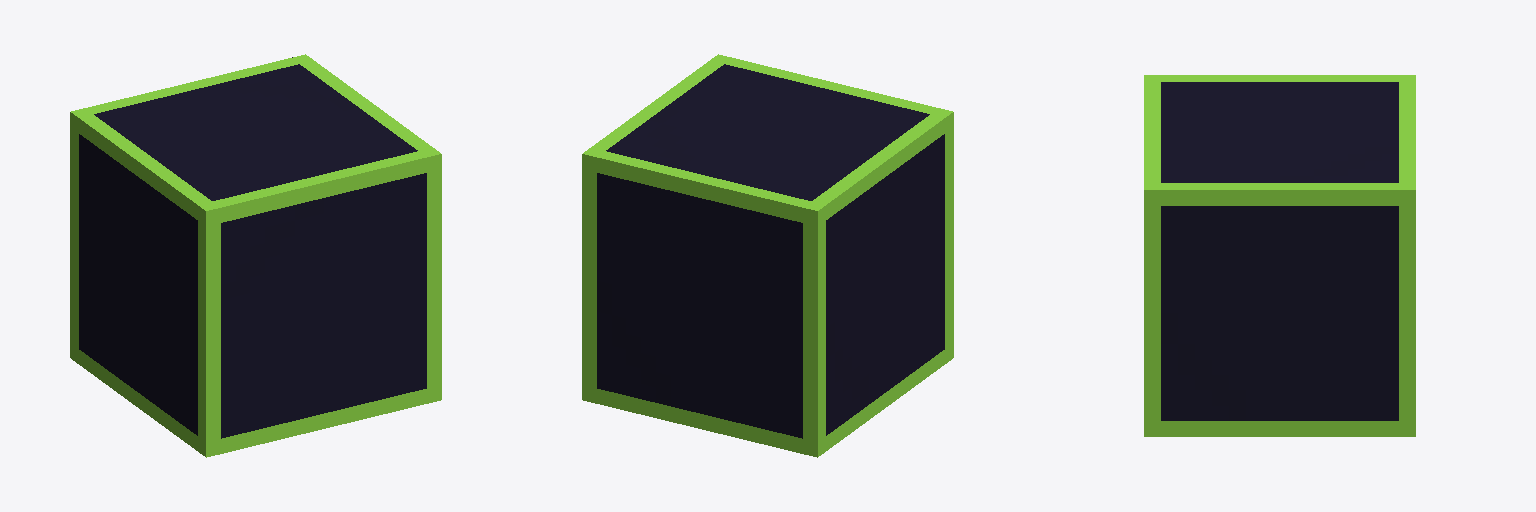
The picture shows the model from 3 angles: view 1: azimuth 30°, elevation 25°; view 2: azimuth 150°, elevation 25°; view 3: azimuth 270°, elevation 25°; orthographic projection.
Visible parts, largest first — view 1: Cube; view 2: Cube; view 3: Cube.
Part boxes in pixels (left/top/right/bottom): Cube: left=70, top=54, right=441, bottom=457; Cube: left=582, top=54, right=953, bottom=457; Cube: left=1144, top=75, right=1415, bottom=436.
Size of the model in its own units: 2 by 2 by 2.
Materials: 1 (1 with a texture image).